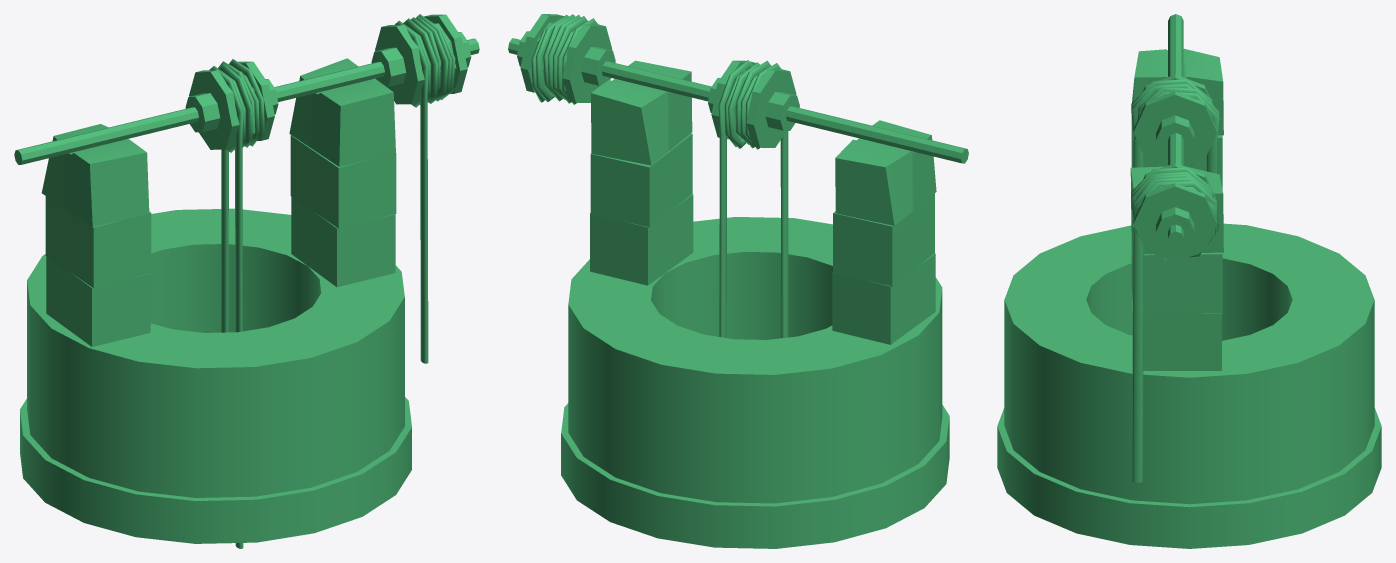
The model's file is well.fbx.
The picture shows the model from 3 angles, left to right: view 1: azimuth 30°, elevation 25°; view 2: azimuth 150°, elevation 25°; view 3: azimuth 270°, elevation 25°; orthographic projection. The views are drawn at different scales.
Visible parts, largest first — view 1: well; view 2: well; view 3: well.
Boxes of the visible parts, x1=… form: well: x1=14, y1=14, x2=479, y2=548; well: x1=508, y1=14, x2=968, y2=548; well: x1=997, y1=14, x2=1381, y2=548.
Size of the model in its own units: 3.17 by 3.07 by 2.36.
